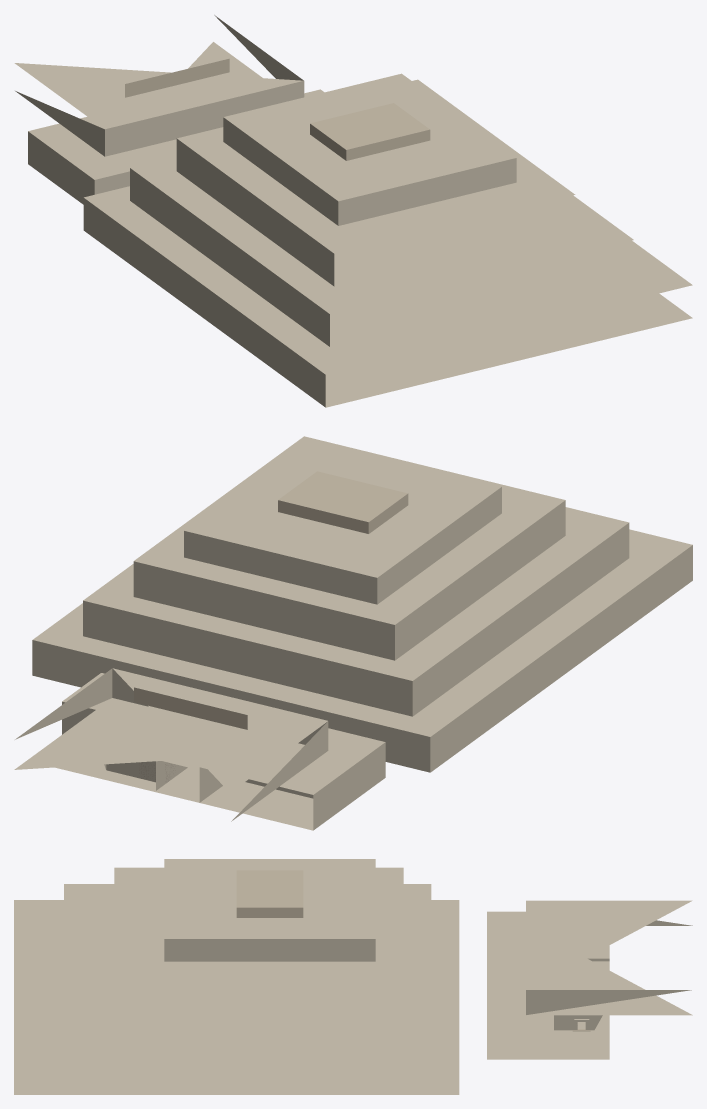
File: chavin_edificio_b_lod1.glb
3 renders of one model, top to bottom at view 1: azimuth 30°, elevation 25°; view 2: azimuth 150°, elevation 25°; view 3: azimuth 270°, elevation 25°, orthographic. The views are drawn at different scales.
Parts seen in each view (by area): view 1: chavin_edificio_b; view 2: chavin_edificio_b; view 3: chavin_edificio_b.
Boxes of the visible parts, bbox=[...] form: chavin_edificio_b: bbox=[14, 15, 692, 407]; chavin_edificio_b: bbox=[14, 436, 692, 830]; chavin_edificio_b: bbox=[14, 859, 692, 1094].
Bounding box in the file's own units: 70 × 24.5 × 122.
